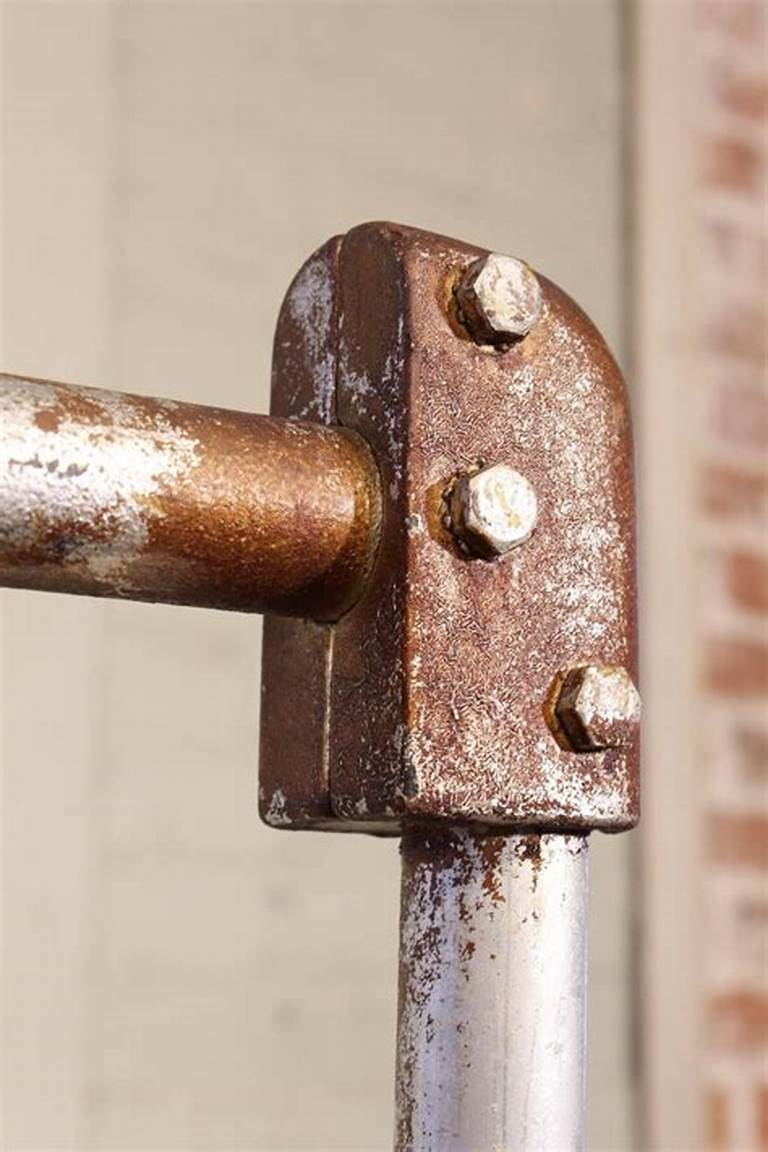bolt_a: (450, 458, 541, 562), (455, 249, 549, 347), (554, 664, 645, 753)
